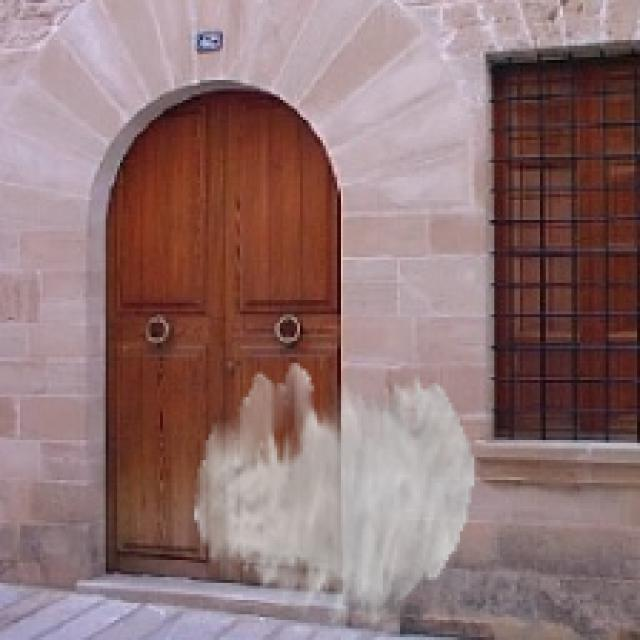Smoke: (195, 362, 474, 628)
